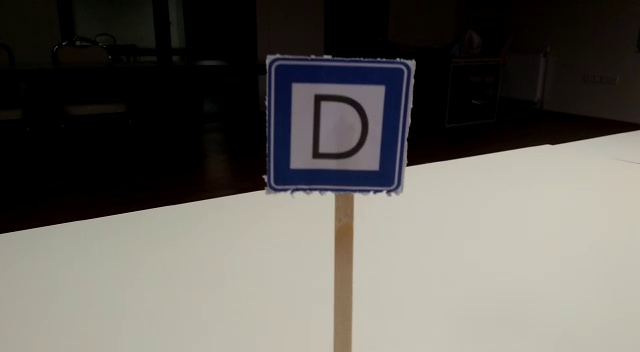durak: (266, 59, 410, 192)
